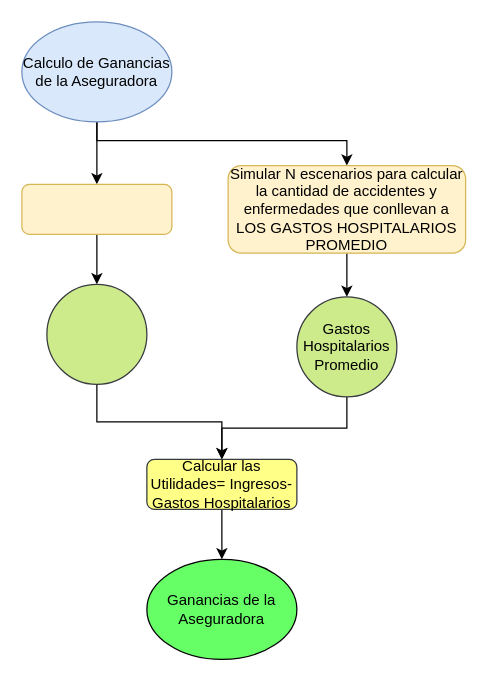
This 488x681 diagram has some shape labels left out. The shapes that lost their labels are listed below. From the top down, each one's centre as x and y in pixels, then its label:
At point (96, 208): "Simular N escenarios para calcular los ingresos promedio".
At point (96, 333): "Ingresos Promedio".
